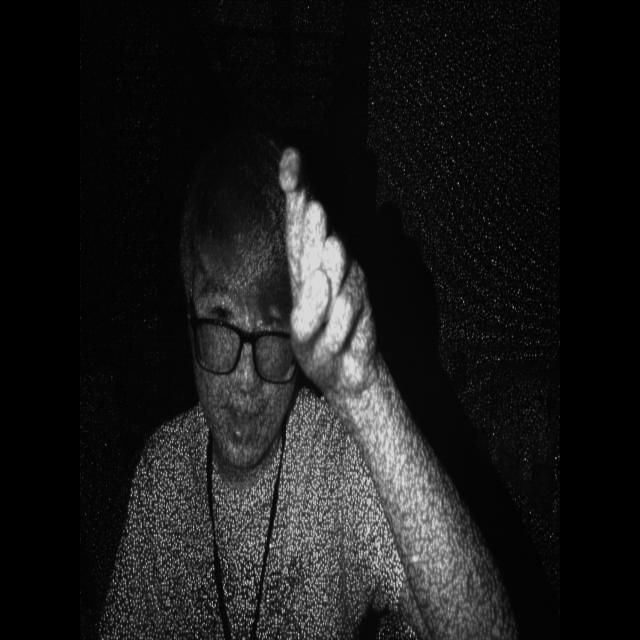X: (275, 117, 379, 422)
